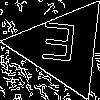E: (37, 22, 79, 71)
